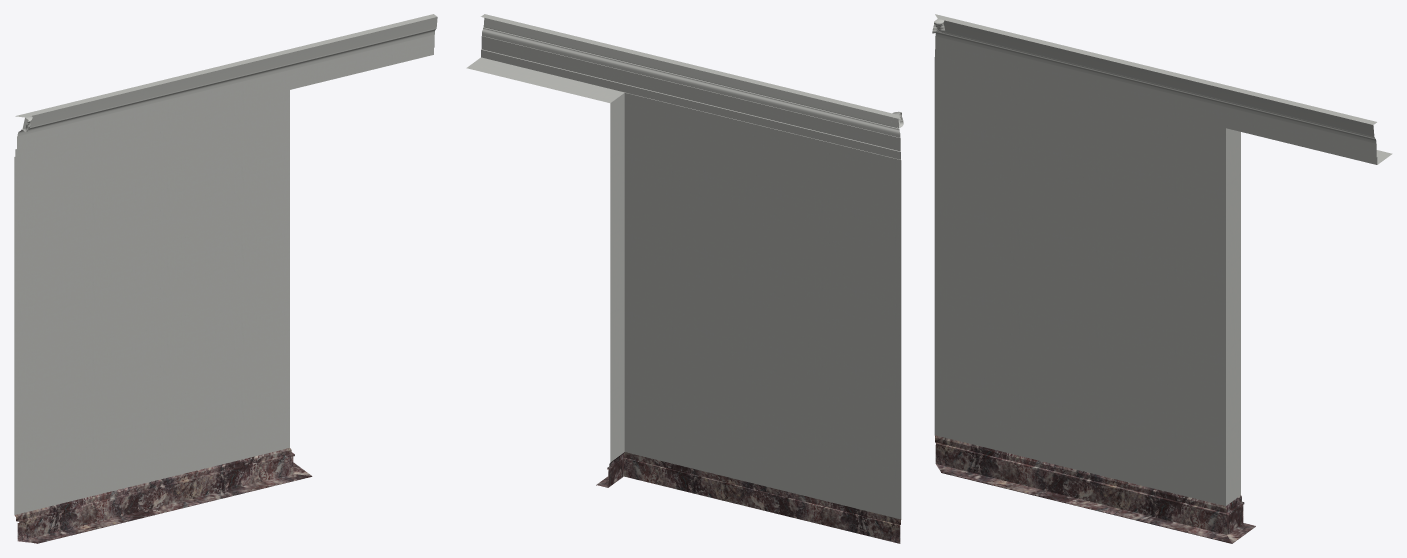
File: Narrow Wall Door.fbx
The picture shows the model from 3 angles, left to right: view 1: azimuth 30°, elevation 25°; view 2: azimuth 150°, elevation 25°; view 3: azimuth 330°, elevation 25°; orthographic projection. The views are drawn at different scales.
Visible parts, largest first — view 1: Narrow_Wall_Door, Red_Marble, Deco_row; view 2: Narrow_Wall_Door, Red_Marble, Deco_row; view 3: Narrow_Wall_Door, Red_Marble, Deco_row.
Boxes of the visible parts, left/top/right/bottom form: Narrow_Wall_Door: left=14, top=14, right=437, bottom=514; Red_Marble: left=14, top=448, right=312, bottom=543; Deco_row: left=22, top=17, right=437, bottom=129; Narrow_Wall_Door: left=466, top=14, right=903, bottom=519; Red_Marble: left=596, top=452, right=900, bottom=543; Deco_row: left=483, top=18, right=898, bottom=128; Narrow_Wall_Door: left=932, top=14, right=1392, bottom=505; Red_Marble: left=935, top=435, right=1255, bottom=543; Deco_row: left=943, top=20, right=1374, bottom=137.
Size of the model in its own units: 800 by 775 by 74.5.
